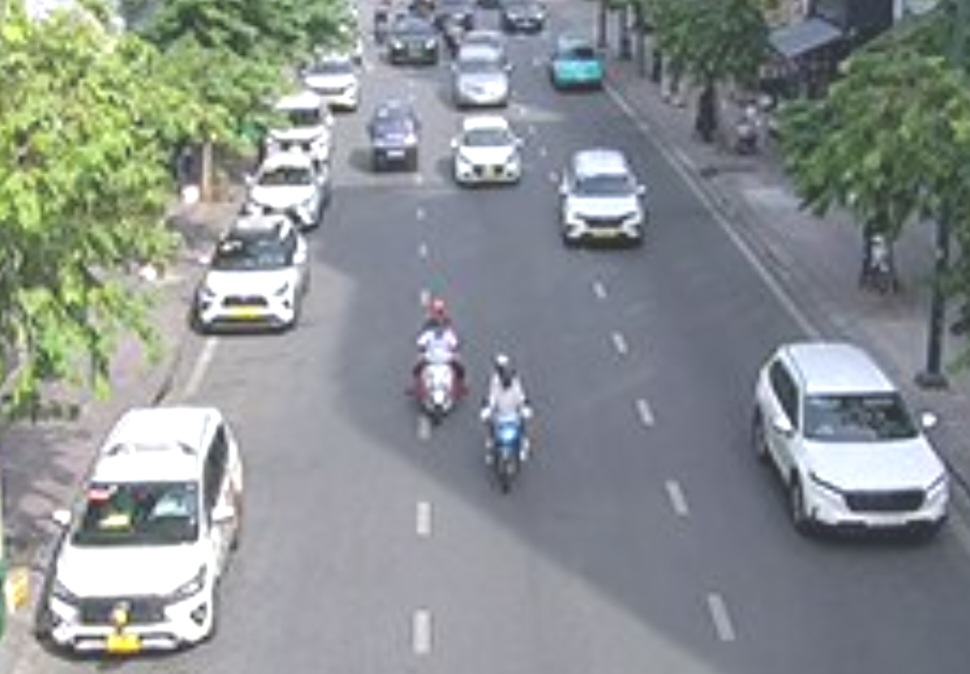car: (40, 404, 248, 660), (750, 337, 955, 545), (193, 214, 310, 337), (557, 148, 651, 248), (245, 155, 332, 225), (454, 113, 522, 188), (263, 92, 337, 156), (366, 105, 422, 171), (451, 44, 510, 106), (549, 34, 605, 89), (302, 56, 360, 109), (388, 19, 441, 66)
